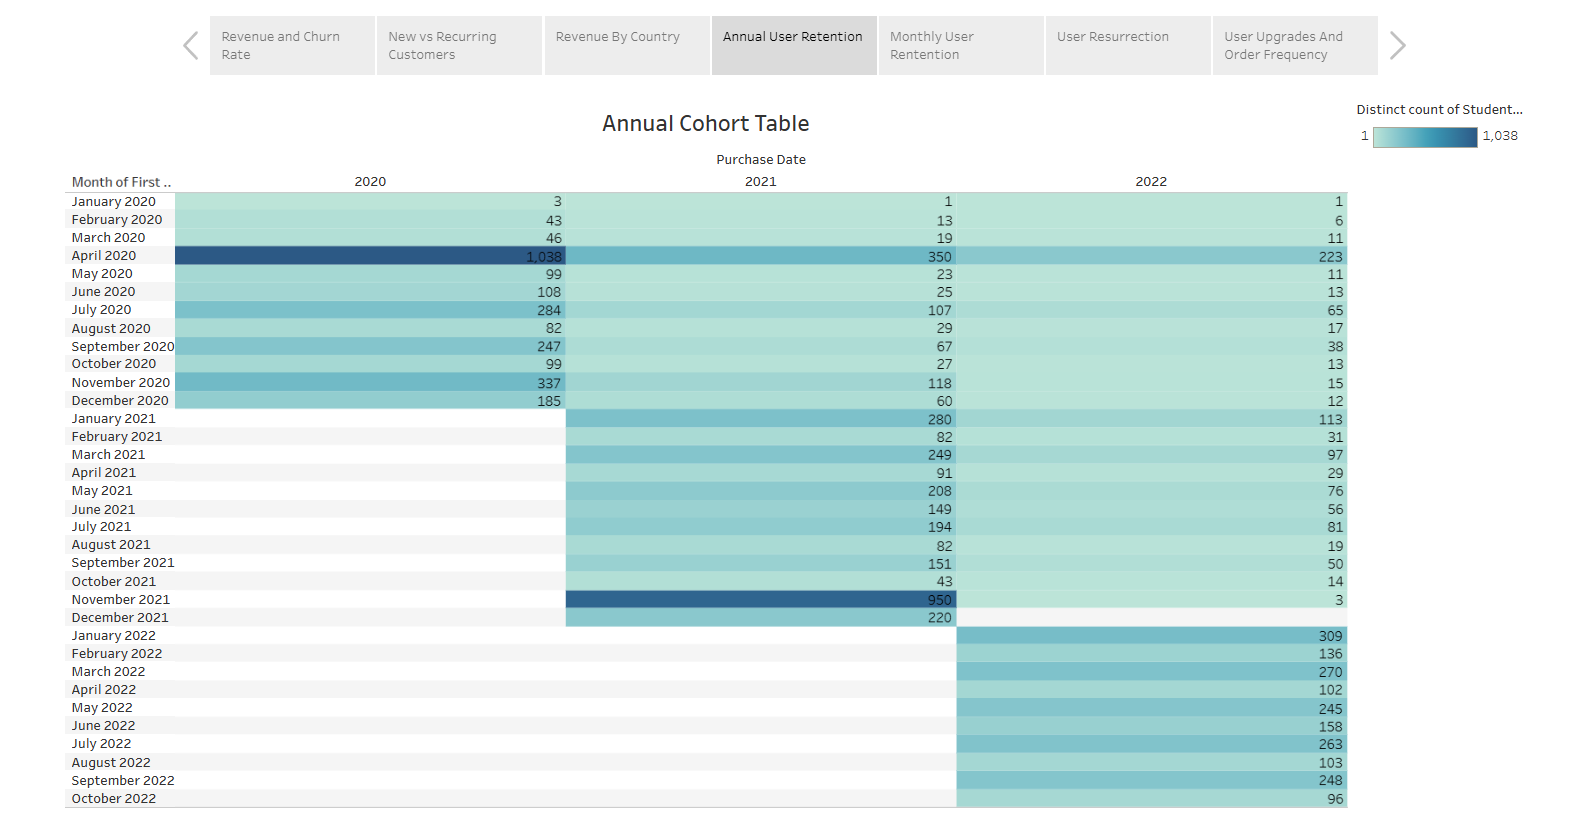

The page's visual inventory and layout, read from the dashboard file:
{"tool":"tableau","page":{"name":"annual cohort D","canvas":[1350,667],"ordinal":5},"visuals":[{"type":"worksheet","title":"annual cohort","mark":"Automatic","rows":["Calculation_139330141756936196"],"cols":["purchase date"],"box":[8,8,1174,651]},{"type":"legend","title":"annual cohort","param":"[federated.0jguc9h07y3epi10oer9z08un7qk].[ctd:student_id:qk]","box":[1182,8,160,65]}]}

Visuals, with their boxes on the page's 1350x667 design canvas (x1, y1, x2, y2). These are canvas units, not pixel positions in the 1576x824 screenshot, which may show the page scaled, cropped or inside an application window:
"annual cohort" worksheet: region(8, 8, 1182, 659)
"annual cohort" legend: region(1182, 8, 1342, 73)
